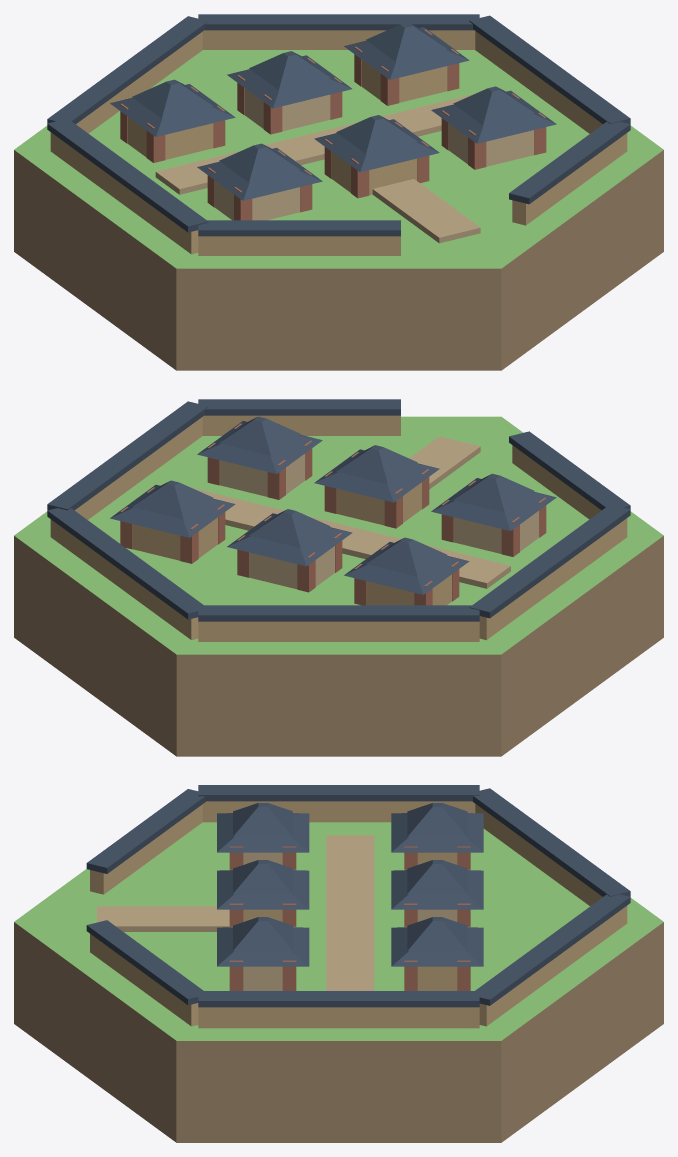
File: village-5.glb
3 views of the same model, one above another, from view 1: azimuth 30°, elevation 25°; view 2: azimuth 150°, elevation 25°; view 3: azimuth 270°, elevation 25° (orthographic).
Parts seen in each view (by area): view 1: base, fence_0_cap, fence_3_wall, fence_0_wall, lane_mid, fence_2_cap, fence_5_cap, fence_1_cap, fence_3_cap, lane_south, fence_2_wall, fence_4_cap (+26 smaller); view 2: base, fence_1_wall, fence_1_cap, lane_mid, fence_2_cap, fence_5_cap, fence_0_cap, fence_4_cap, fence_4_wall, fence_2_wall, fence_0_wall, fence_3_cap (+26 smaller); view 3: base, lane_mid, fence_5_wall, fence_5_cap, fence_2_cap, fence_0_cap, fence_1_cap, fence_2_wall, lane_south, fence_0_wall, fence_3_cap, fence_4_cap (+17 smaller).
Part boxes in pixels (left/top/right/bottom): base: left=14, top=50, right=663, bottom=370; fence_0_cap: left=198, top=14, right=479, bottom=30; fence_3_wall: left=198, top=236, right=400, bottom=255; fence_0_wall: left=202, top=30, right=475, bottom=49; lane_mid: left=155, top=94, right=473, bottom=194; fence_2_cap: left=47, top=118, right=208, bottom=232; fence_5_cap: left=469, top=15, right=630, bottom=123; fence_1_cap: left=47, top=16, right=208, bottom=123; fence_3_cap: left=198, top=220, right=400, bottom=236; lane_south: left=372, top=179, right=480, bottom=243; fence_2_wall: left=50, top=132, right=198, bottom=254; fence_4_cap: left=509, top=121, right=630, bottom=204; base: left=14, top=416, right=663, bottom=756; fence_1_wall: left=198, top=621, right=479, bottom=641; fence_1_cap: left=198, top=605, right=479, bottom=621; lane_mid: left=192, top=488, right=510, bottom=588; fence_2_cap: left=469, top=504, right=630, bottom=618; fence_5_cap: left=47, top=401, right=208, bottom=510; fence_0_cap: left=47, top=508, right=203, bottom=619; fence_4_cap: left=198, top=399, right=400, bottom=415; fence_4_wall: left=202, top=415, right=400, bottom=435; fence_2_wall: left=479, top=518, right=627, bottom=640; fence_0_wall: left=50, top=519, right=198, bottom=640; fence_3_cap: left=509, top=431, right=630, bottom=510; base: left=14, top=822, right=663, bottom=1142; lane_mid: left=326, top=835, right=374, bottom=990; fence_5_wall: left=198, top=1007, right=479, bottom=1028; fence_5_cap: left=198, top=991, right=479, bottom=1007; fence_2_cap: left=198, top=785, right=479, bottom=801; fence_0_cap: left=475, top=894, right=630, bottom=1005; fence_1_cap: left=472, top=788, right=630, bottom=896; fence_2_wall: left=202, top=801, right=475, bottom=822; lane_south: left=97, top=906, right=229, bottom=931; fence_0_wall: left=479, top=906, right=627, bottom=1026; fence_3_cap: left=86, top=789, right=205, bottom=873; fence_4_cap: left=86, top=920, right=203, bottom=1005.
Bounding box in the file's own units: 1 × 0.3174 × 1.15.
